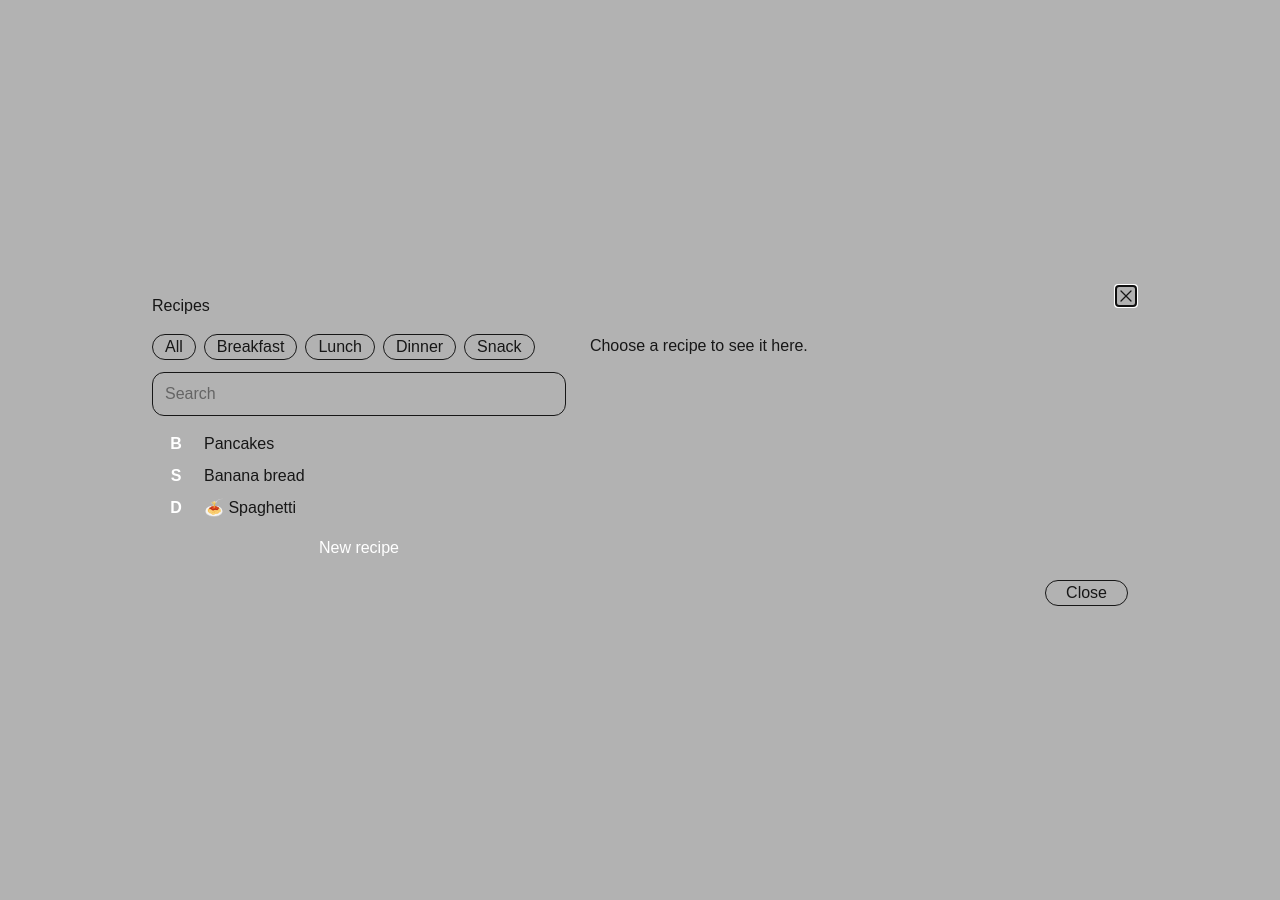
Test: RecipePane › filters by a mealtime chip and by a search over name and text
Click the radio button labelled "Dinner" at {"x": 420, "y": 347}, box [383,334,456,360]
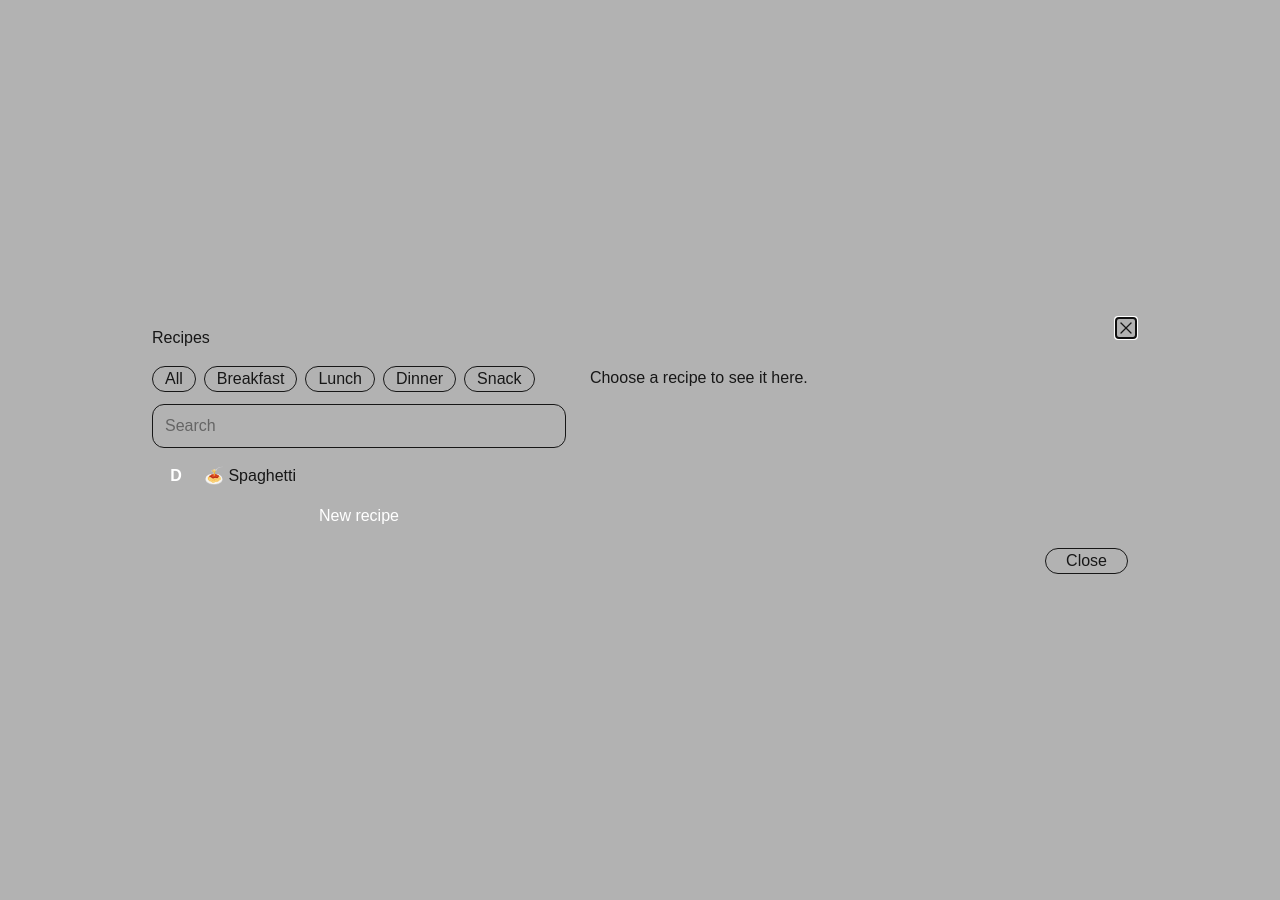
Click the radio button labelled "All" at {"x": 174, "y": 379}, box [152,366,196,392]
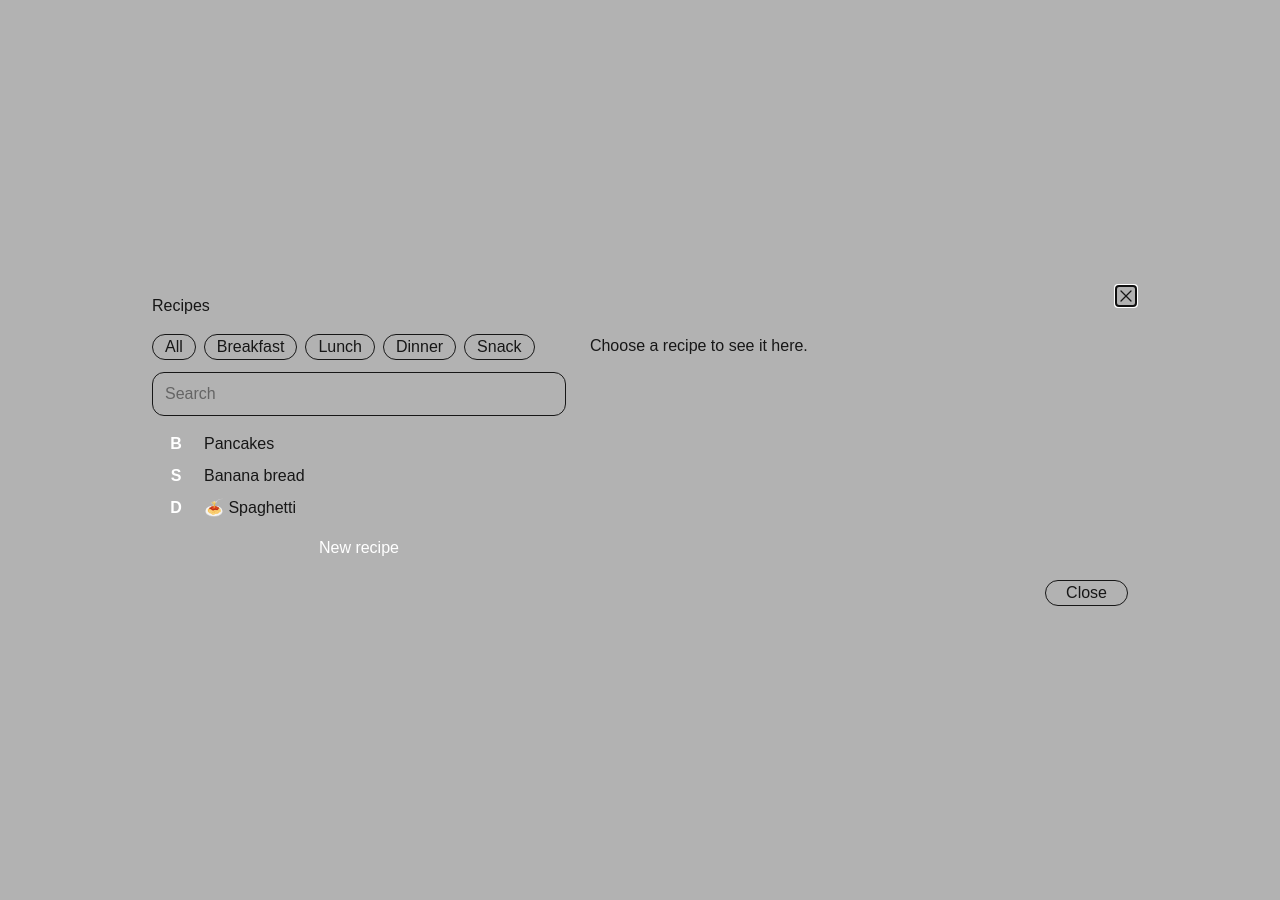
Type "flour" into the search field named "Search recipes" at {"x": 359, "y": 394}, box [152,372,566,416]
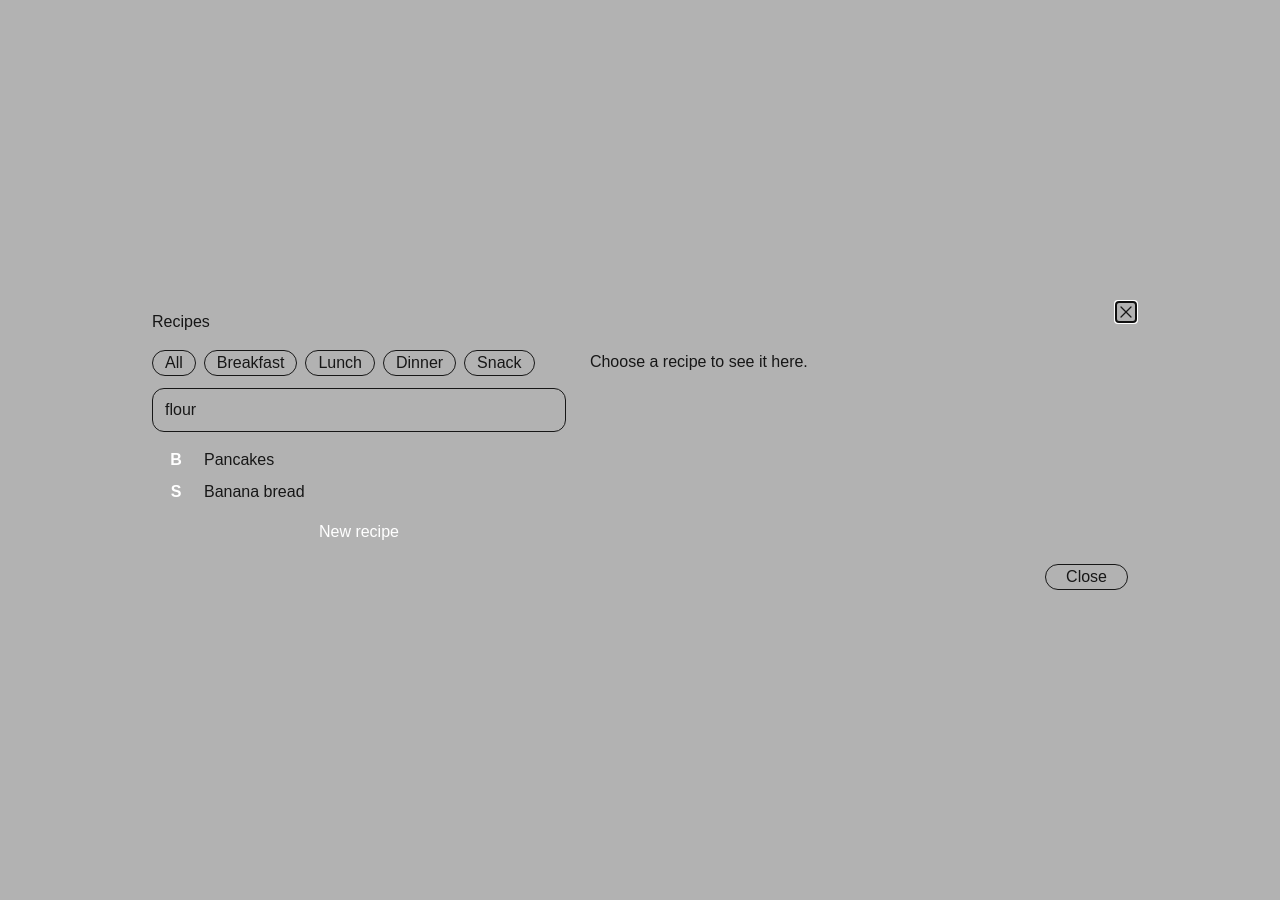
Replace the text in the search field named "Search recipes" with "nothing" at {"x": 359, "y": 410}, box [152,388,566,432]
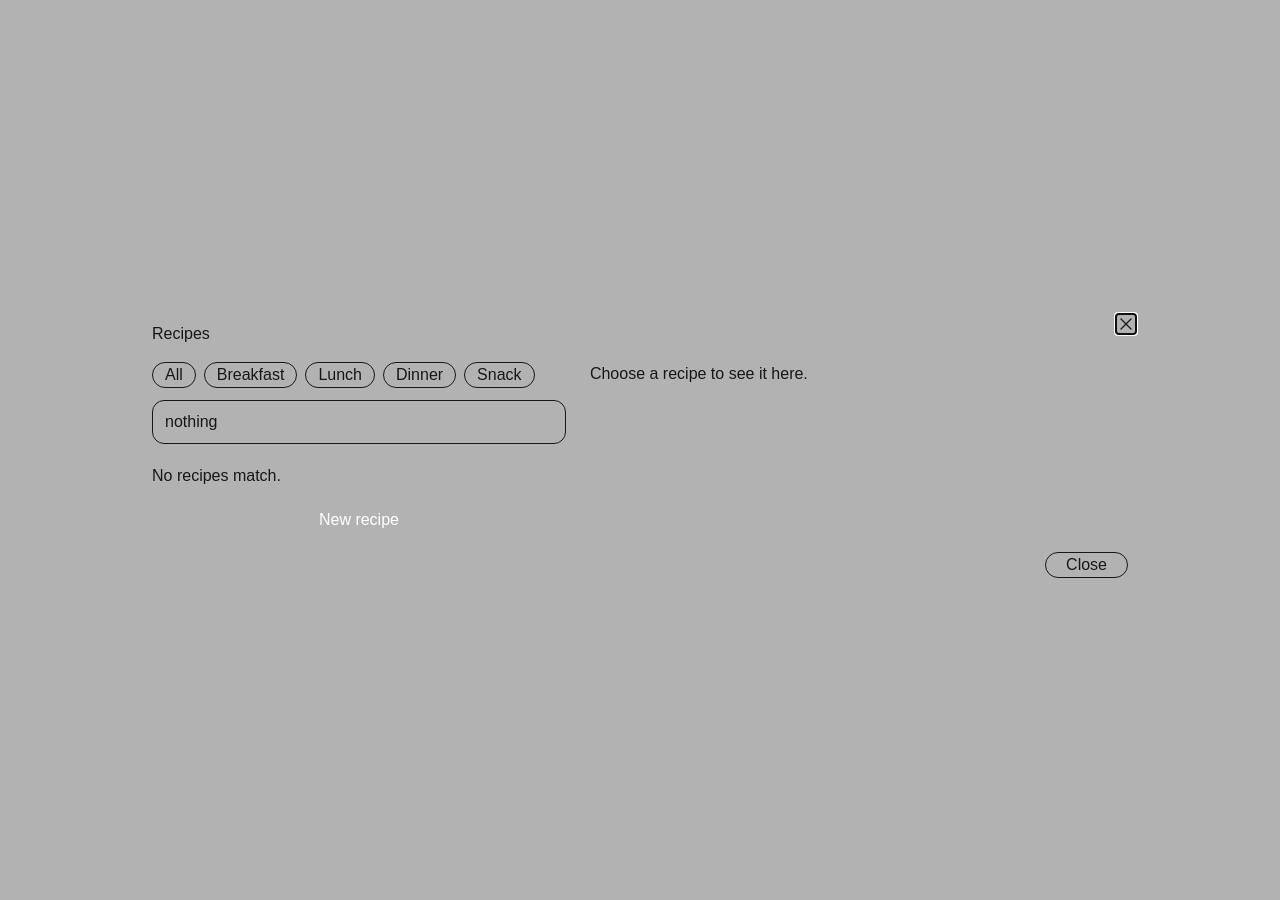
Expected: the list item "No recipes match." is shown, [152,467,281,484]
